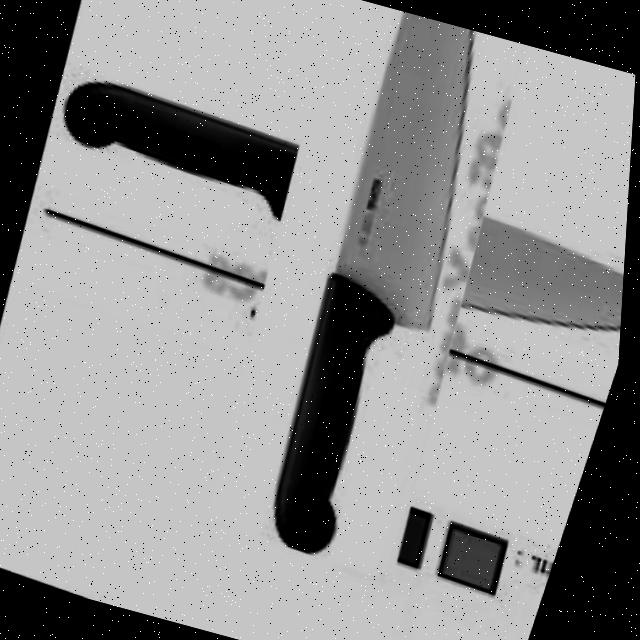knife: (30, 65, 637, 353), (236, 11, 526, 568)
